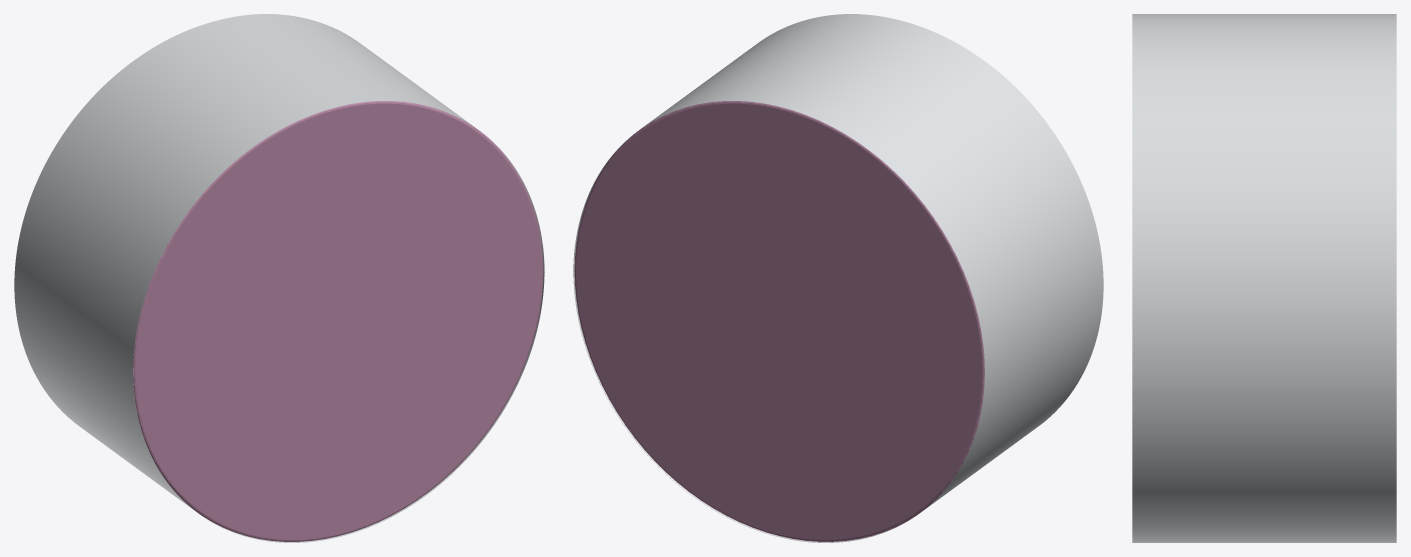
File: cover_export_rejected.glb
3 renders of one model, left to right at view 1: azimuth 30°, elevation 25°; view 2: azimuth 150°, elevation 25°; view 3: azimuth 270°, elevation 25°, orthographic. The views are drawn at different scales.
Parts seen in each view (by area): view 1: COOLER_FIXED_BAND__foam_1, COOLER_FIXED_BAND__foam_mylar_1; view 2: COOLER_FIXED_BAND__foam_1, COOLER_FIXED_BAND__foam_mylar_1; view 3: COOLER_FIXED_BAND__foam_mylar_1.
Boxes of the visible parts, x1,y1,x2,y2 form: COOLER_FIXED_BAND__foam_1: [133, 101, 543, 541]; COOLER_FIXED_BAND__foam_mylar_1: [14, 14, 544, 542]; COOLER_FIXED_BAND__foam_1: [574, 101, 984, 541]; COOLER_FIXED_BAND__foam_mylar_1: [573, 14, 1103, 542]; COOLER_FIXED_BAND__foam_mylar_1: [1132, 14, 1396, 542].
Bounding box in the file's own units: 0.05 × 0.05 × 0.025.
